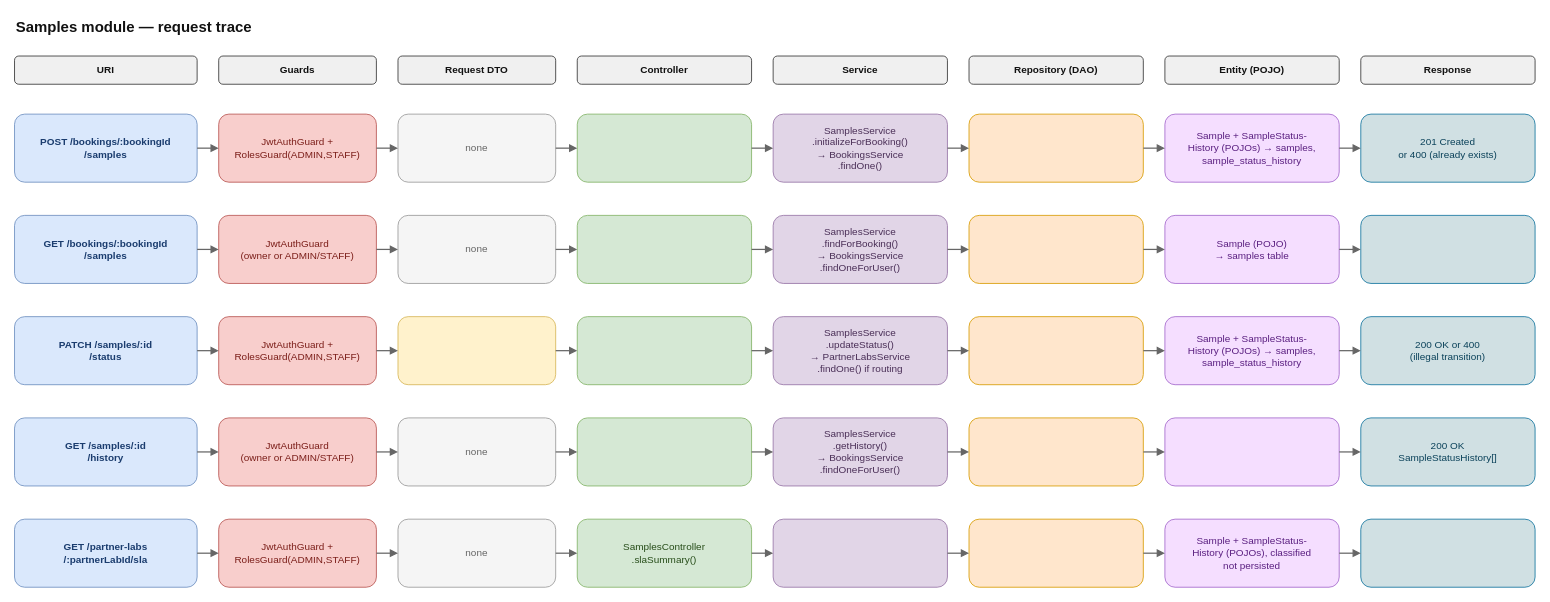
Image size: 1550x602. Some labels were removed from this diagram. The box of each missing label's shape, as (x1, y1, x2, y2) in pixels:
200 OK Sample[]: (1360, 215, 1535, 283)
200 OK {summary, samples[]}: (1360, 518, 1535, 587)
historyRepo.find() {where: sampleId}: (968, 417, 1143, 486)
manager.create()+save() (1 DB transaction): (968, 113, 1143, 182)
manager.save(Sample) +save(History) (1 DB transaction): (968, 316, 1143, 385)
SamplesController .findForBooking(): (576, 215, 752, 283)
SamplesController .history(): (576, 417, 752, 486)
SamplesController .initialize(): (576, 113, 752, 182)
SamplesController .updateStatus(): (576, 316, 752, 385)
samplesRepo.find() + historyRepo.findOne() per sample (read-only): (968, 518, 1143, 587)
samplesRepo.find() {where: bookingId}: (968, 215, 1143, 283)
SamplesService.getSla- SummaryForPartnerLab() → PartnerLabsService .findOne(): (772, 518, 947, 587)
SampleStatusHistory (POJO) → sample_status_ history table: (1164, 417, 1339, 486)
UpdateSampleStatusDto (status, notes?, partnerLabId?, turnaroundHoursOverride?): (397, 316, 556, 385)
